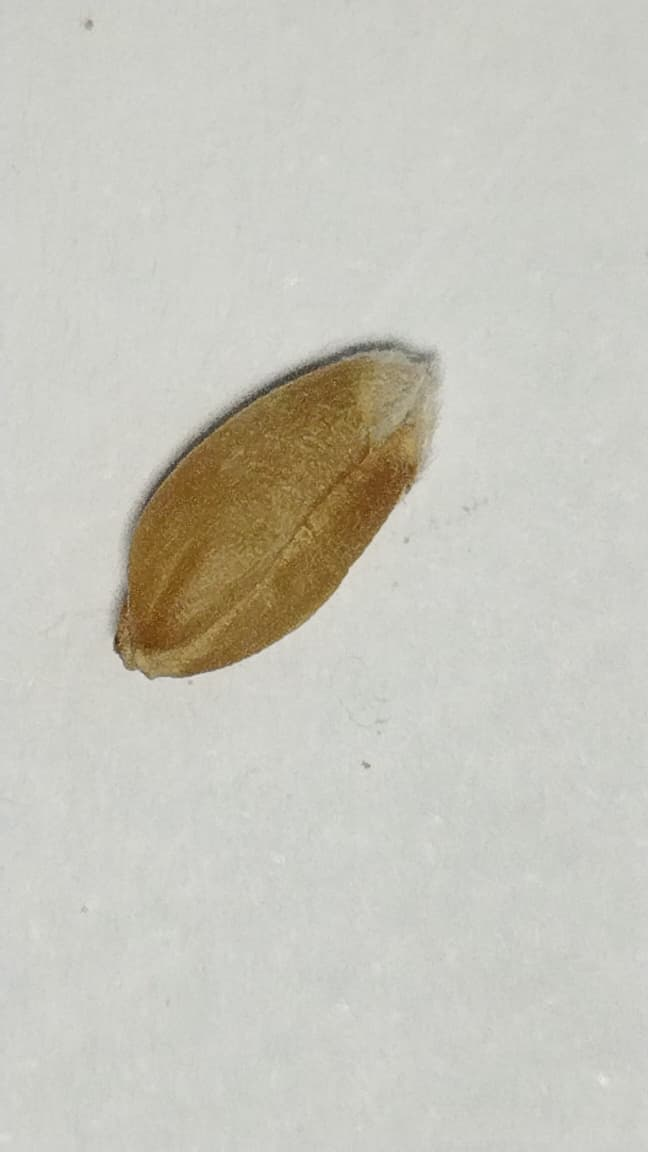healthy: (115, 341, 441, 677)
